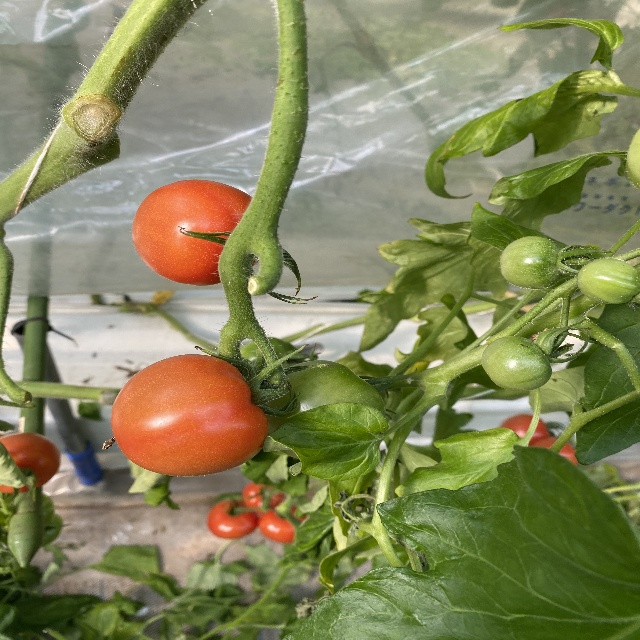l_fully_ripened: (109, 354, 269, 477), (131, 179, 254, 286), (1, 432, 63, 494)
l_green: (265, 365, 386, 433), (481, 335, 553, 391), (501, 236, 562, 290), (576, 256, 639, 304)
